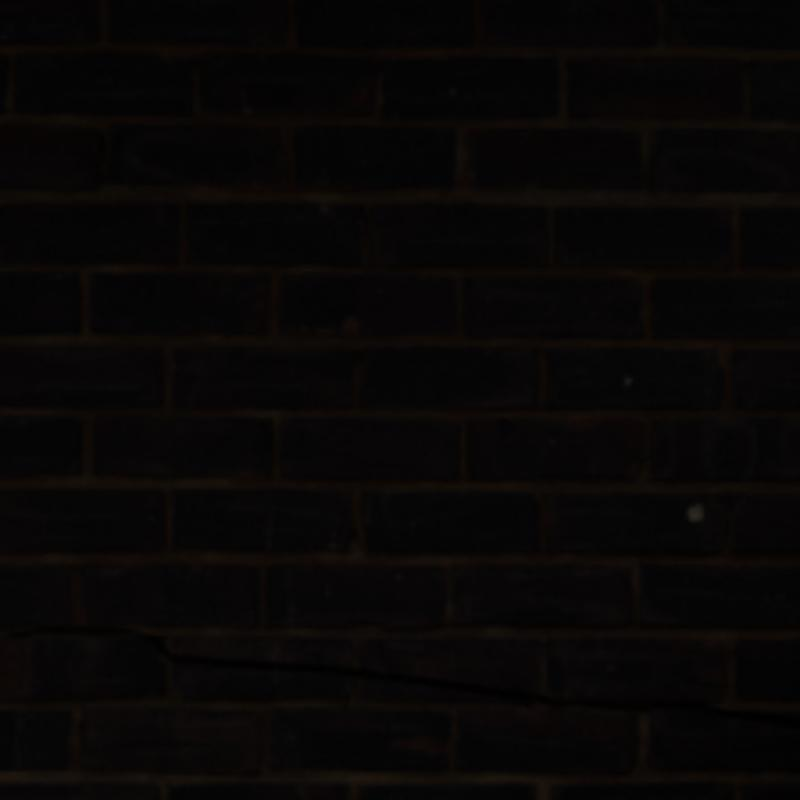pothole: (0, 629, 796, 725)
